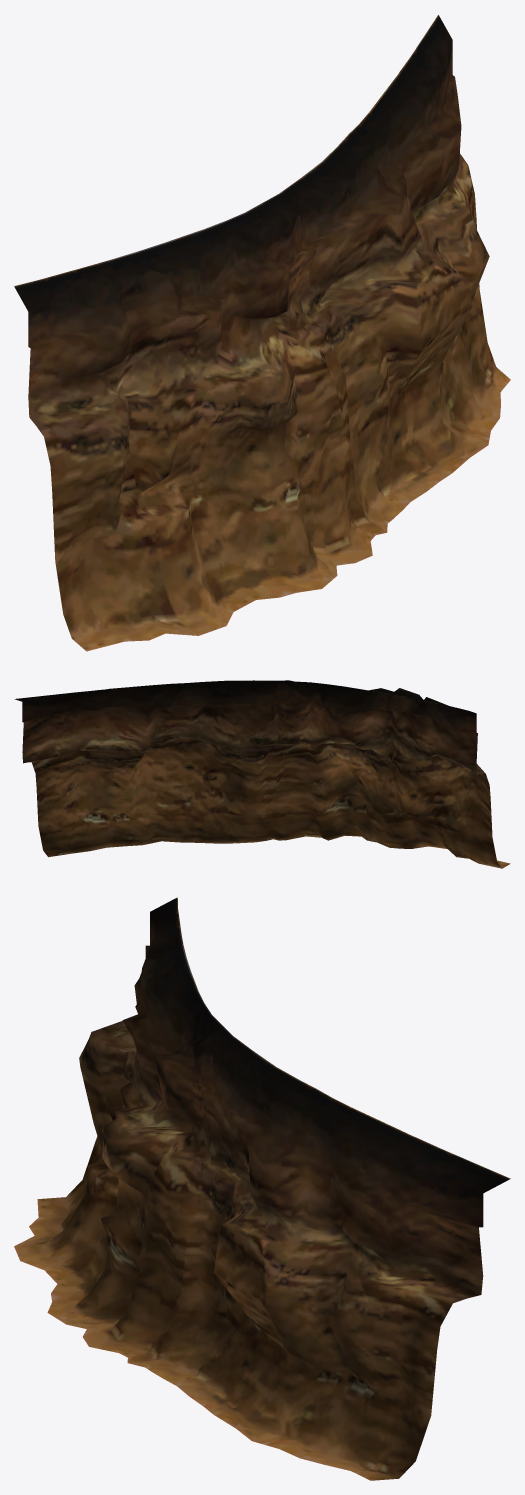
File: tunnelWallConvexA.fbx
3 renders of one model, top to bottom at view 1: azimuth 30°, elevation 25°; view 2: azimuth 150°, elevation 25°; view 3: azimuth 270°, elevation 25°, orthographic. The views are drawn at different scales.
Parts seen in each view (by area): view 1: tunnelWallConvexA; view 2: tunnelWallConvexA; view 3: tunnelWallConvexA.
Part boxes in pixels (left/top/right/bottom): tunnelWallConvexA: left=14, top=15, right=510, bottom=651; tunnelWallConvexA: left=14, top=680, right=510, bottom=868; tunnelWallConvexA: left=14, top=897, right=510, bottom=1480.
Bounding box in the file's own units: 600 × 300 × 447.
